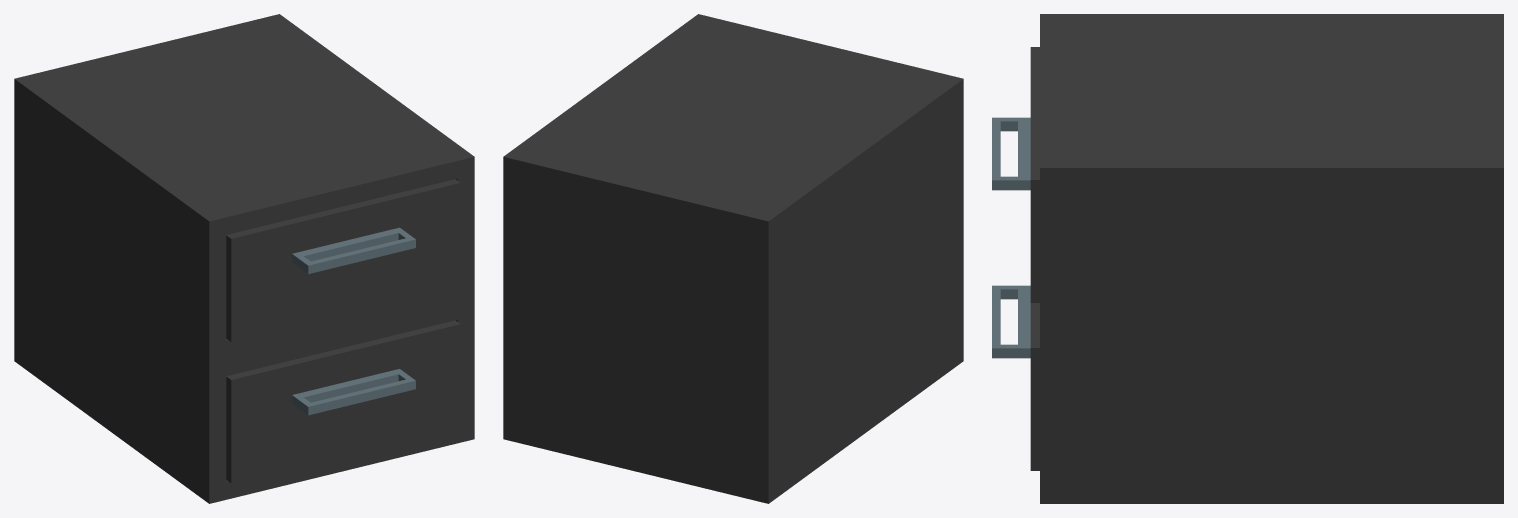
Rendered from CabinetSmallV1Black.fbx.
3 views of the same model, side by side, from view 1: azimuth 30°, elevation 25°; view 2: azimuth 150°, elevation 25°; view 3: azimuth 270°, elevation 25° (orthographic). The views are drawn at different scales.
Visible parts, largest first — view 1: CabinetSmallV1Black, CabinetSmallV1Black_Drawer2, CabinetSmallV1Black_Drawer1; view 2: CabinetSmallV1Black; view 3: CabinetSmallV1Black, CabinetSmallV1Black_Drawer1, CabinetSmallV1Black_Drawer2.
Boxes of the visible parts, <box> form: CabinetSmallV1Black: <box>14,14,474,503</box>; CabinetSmallV1Black_Drawer2: <box>226,320,460,483</box>; CabinetSmallV1Black_Drawer1: <box>226,179,460,342</box>; CabinetSmallV1Black: <box>503,14,963,503</box>; CabinetSmallV1Black: <box>1040,14,1503,503</box>; CabinetSmallV1Black_Drawer1: <box>992,47,1039,302</box>; CabinetSmallV1Black_Drawer2: <box>992,285,1039,470</box>.
Size of the model in its own units: 39.32 by 40 by 55.23.
